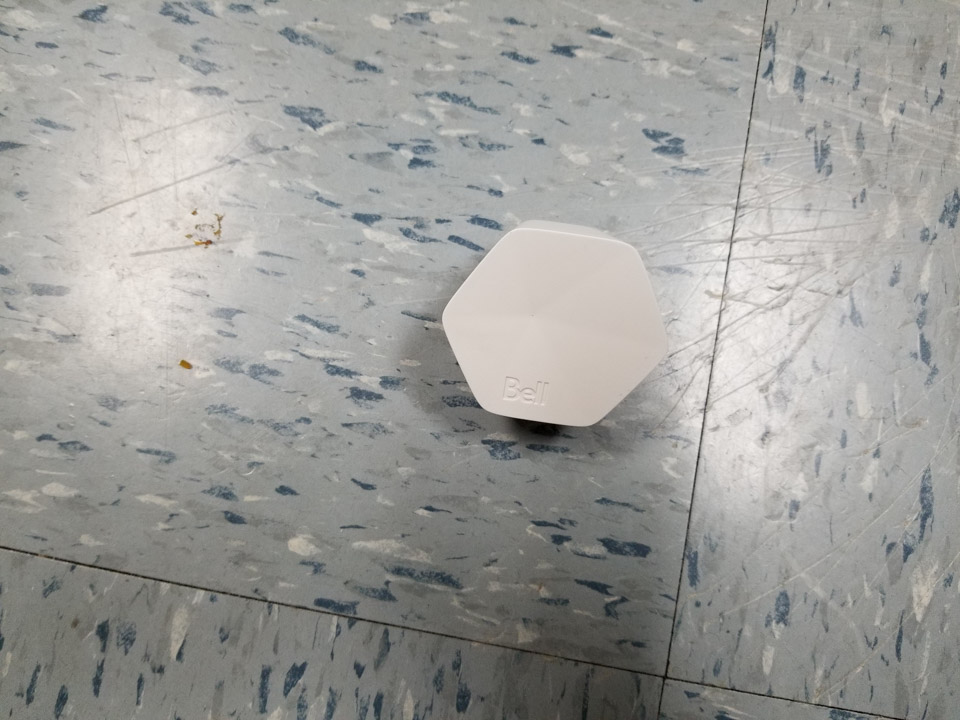pod: (435, 217, 677, 435)
